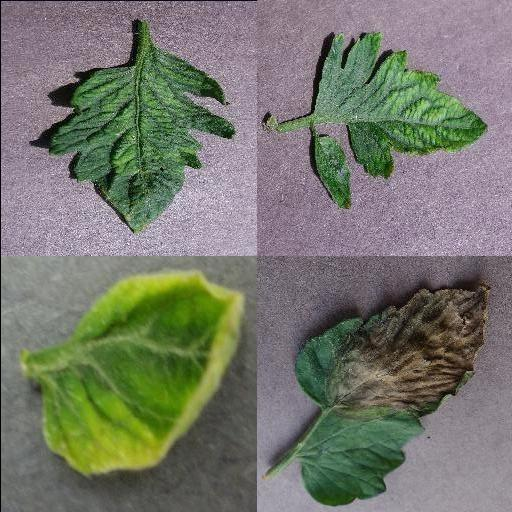Late Blight: (295, 284, 491, 506)
Mosaic Virus: (49, 47, 237, 233), (309, 30, 489, 182)
Yellow Leaf Curl Virus: (40, 271, 246, 481)
